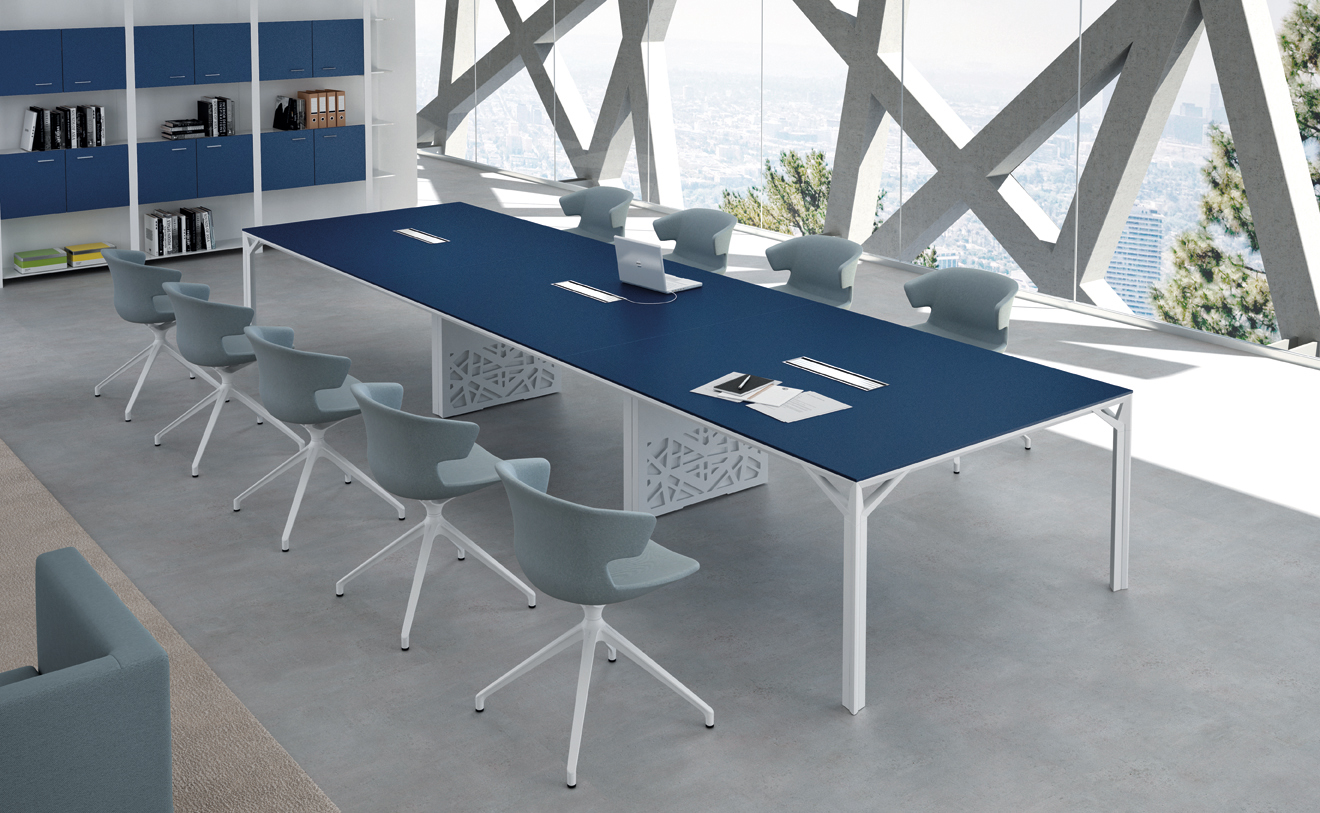conference_table: (238, 200, 1133, 716)
